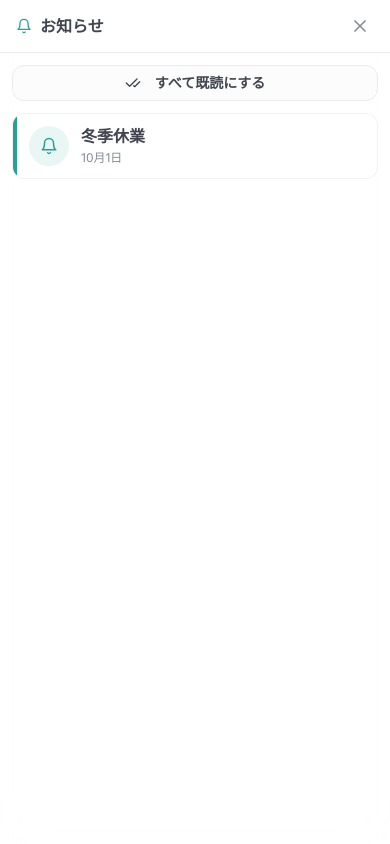
Test: お客様: 画像だけのお知らせ › 本文があれば今までどおり出す
Click the text "冬季休業" at (113, 136), box [81,126,145,146]
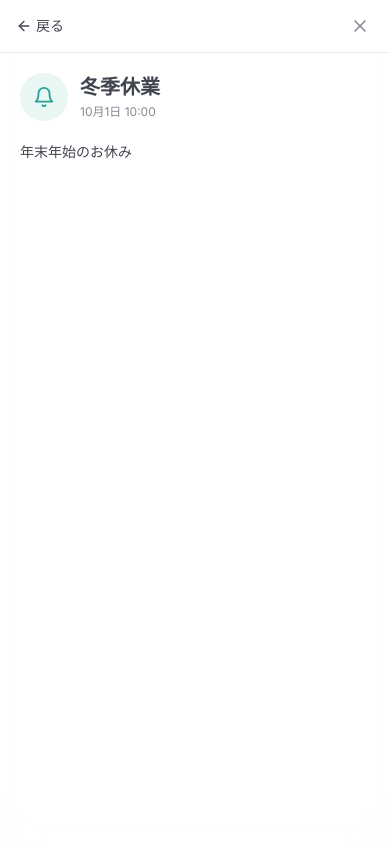
Expected: the element with test id "announcement-body" reads "年末年始のお休み", [20,143,132,160]
